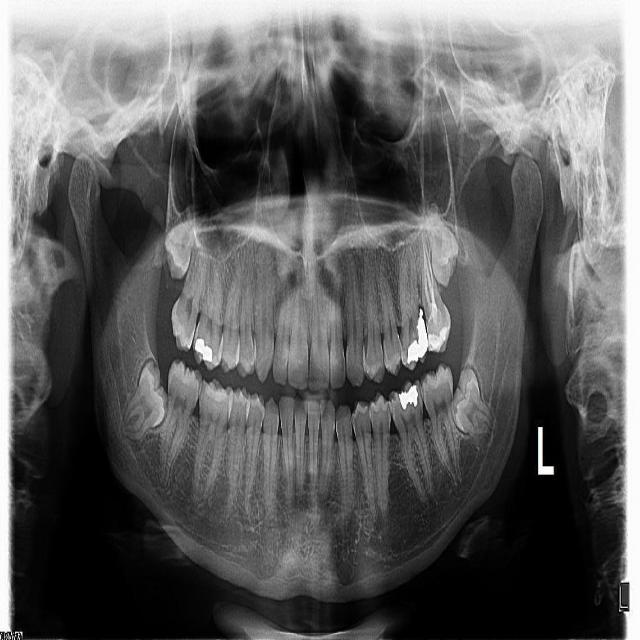74: (418, 239, 439, 320)
NucleOSS Implant: (404, 308, 437, 367), (394, 382, 423, 412), (189, 333, 217, 364)
Straumann Implant: (424, 319, 450, 354)
